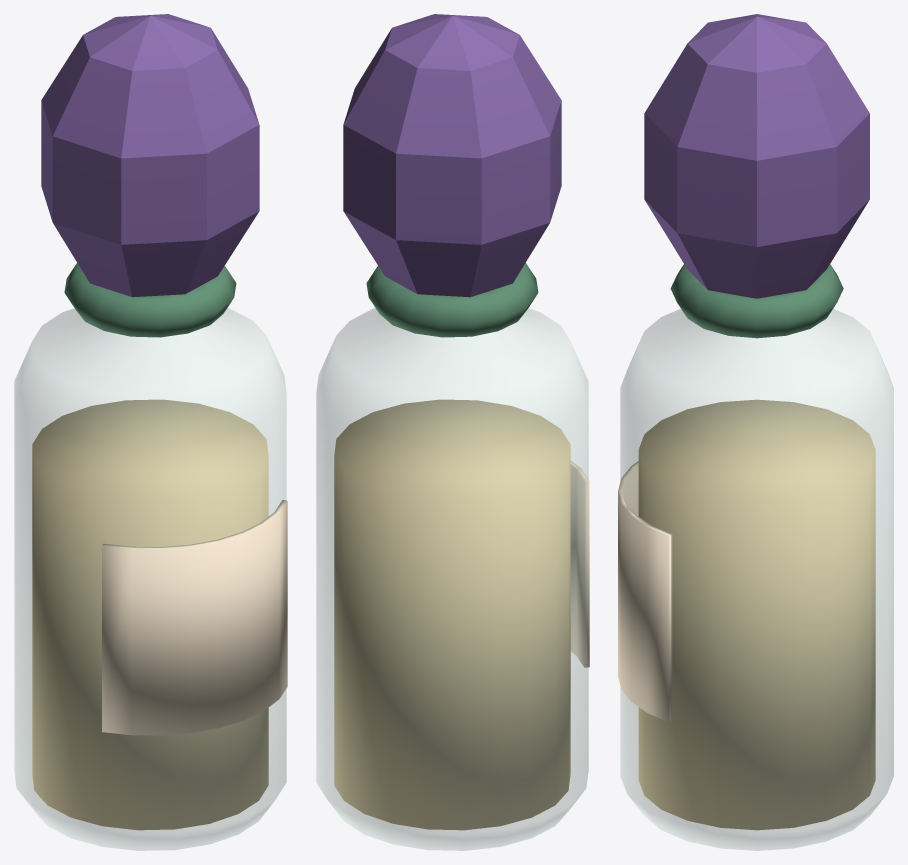
Rendered from perfume-bottle-tall.glb.
3 views of the same model, side by side, from view 1: azimuth 30°, elevation 25°; view 2: azimuth 150°, elevation 25°; view 3: azimuth 270°, elevation 25° (orthographic).
Parts seen in each view (by area): view 1: perfume-bottle-tall; view 2: perfume-bottle-tall; view 3: perfume-bottle-tall.
Part boxes in pixels (box(x1,y1,x2,y2)): perfume-bottle-tall: box(14, 14, 287, 850); perfume-bottle-tall: box(316, 14, 589, 850); perfume-bottle-tall: box(618, 14, 893, 850).
Size of the model in its own units: 0.06 by 0.1898 by 0.0605.
